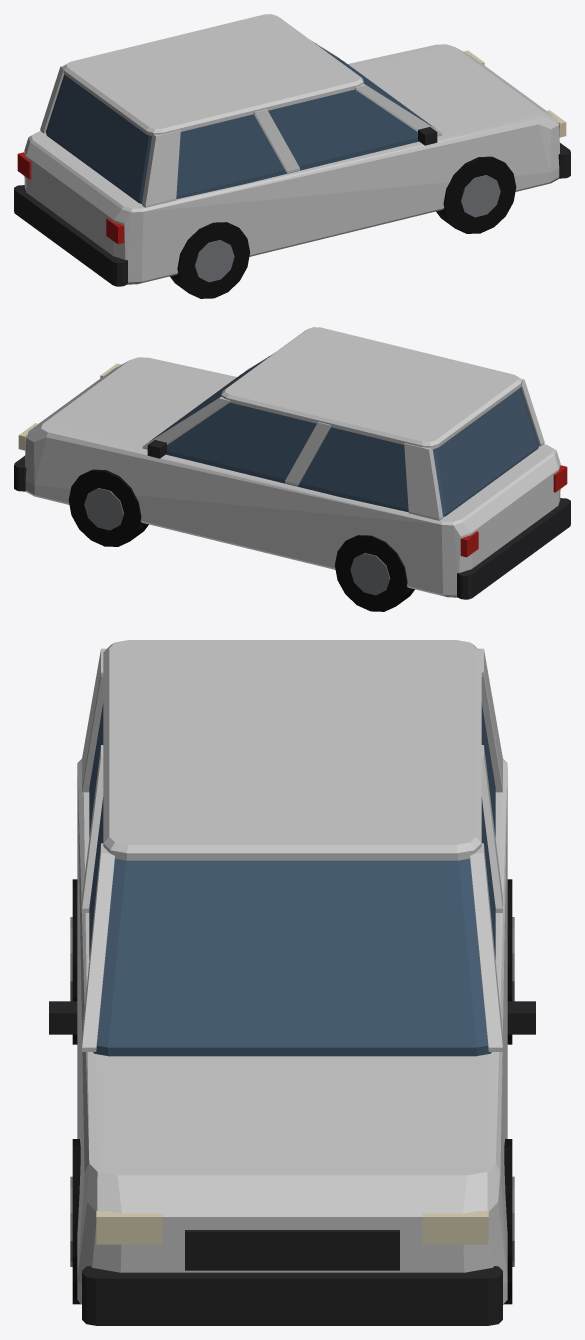
Rendered from car_minisuv.obj.
The picture shows the model from 3 angles, top to bottom: view 1: azimuth 30°, elevation 25°; view 2: azimuth 150°, elevation 25°; view 3: azimuth 270°, elevation 25°; orthographic projection. The views are drawn at different scales.
Bounding box in the file's own units: 4.47 × 1.62 × 2.06.
